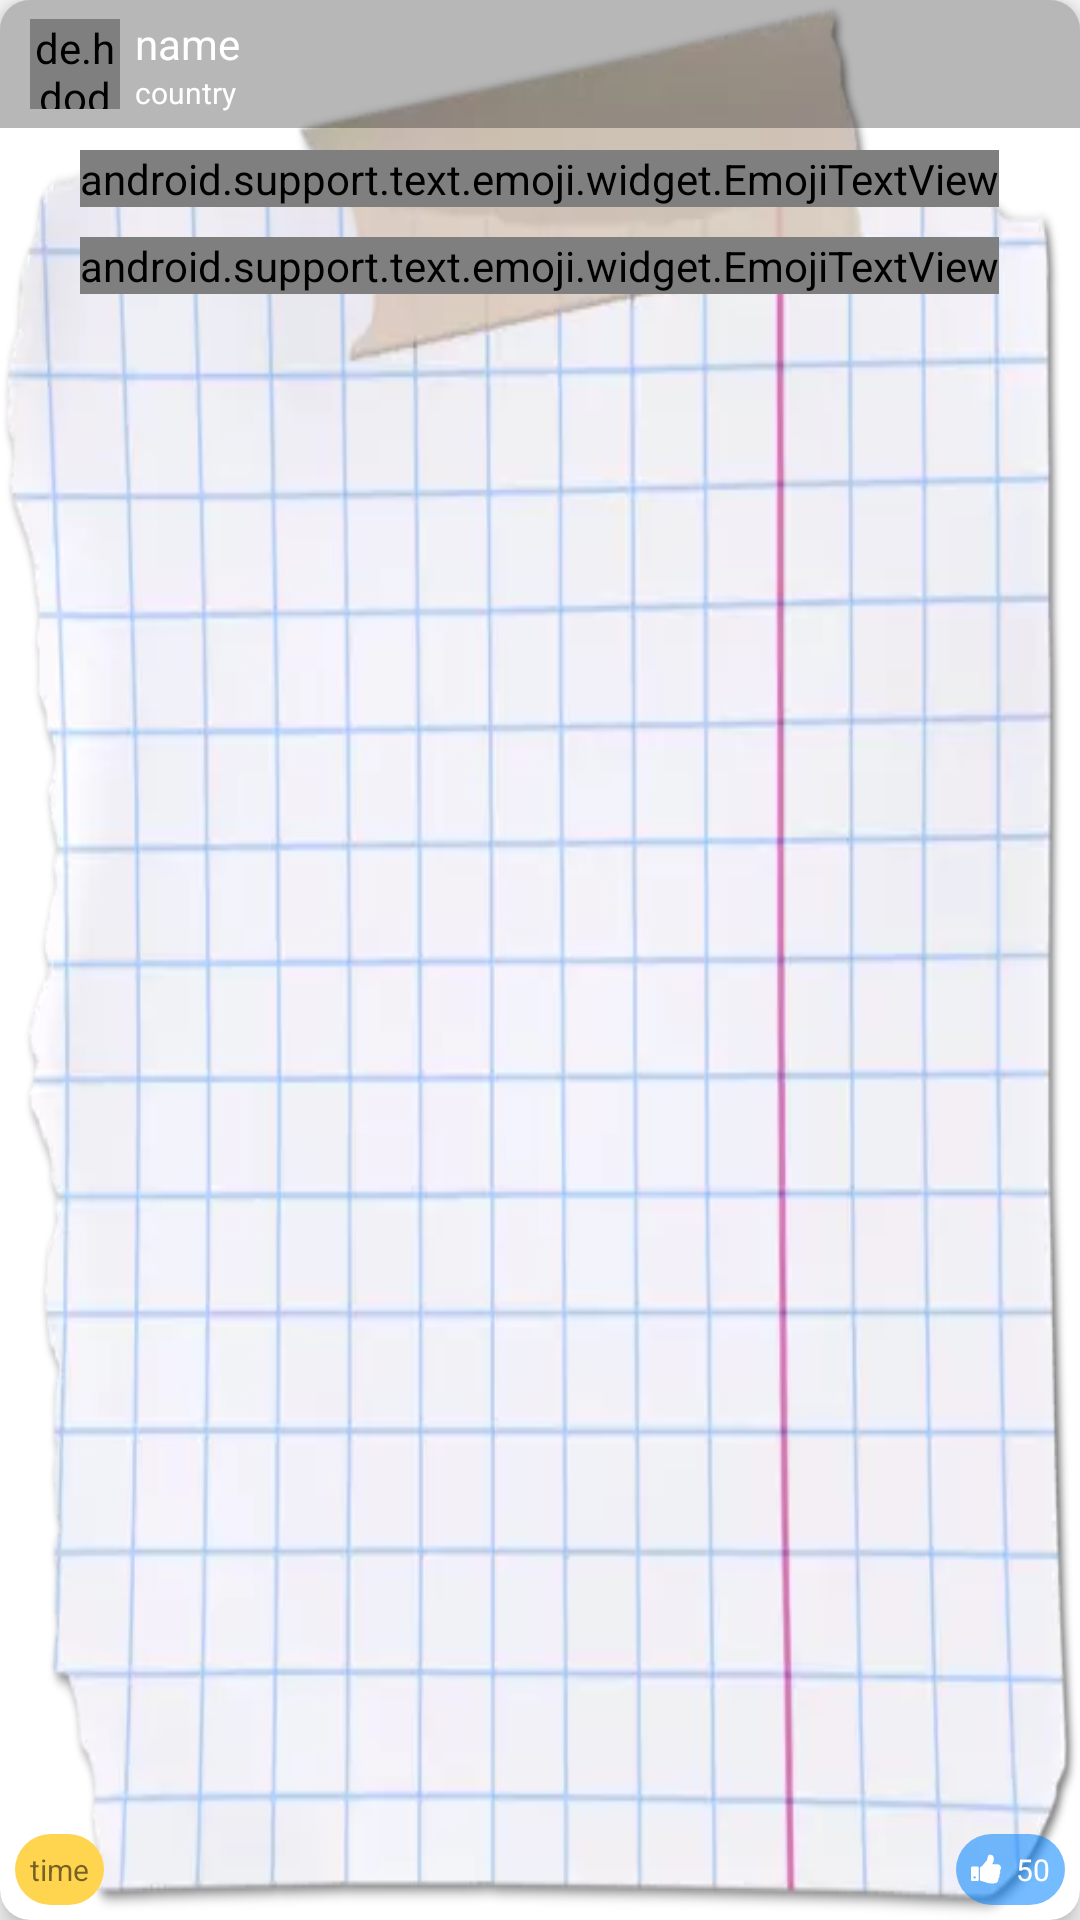

Icons on this 1080x1920 Android screen, each with its box as (x1, y1, x2, y2):
like: (971, 1854, 1001, 1884)
